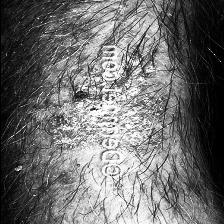Potentially Malignant Skin Tumors: (124, 61, 164, 144)
